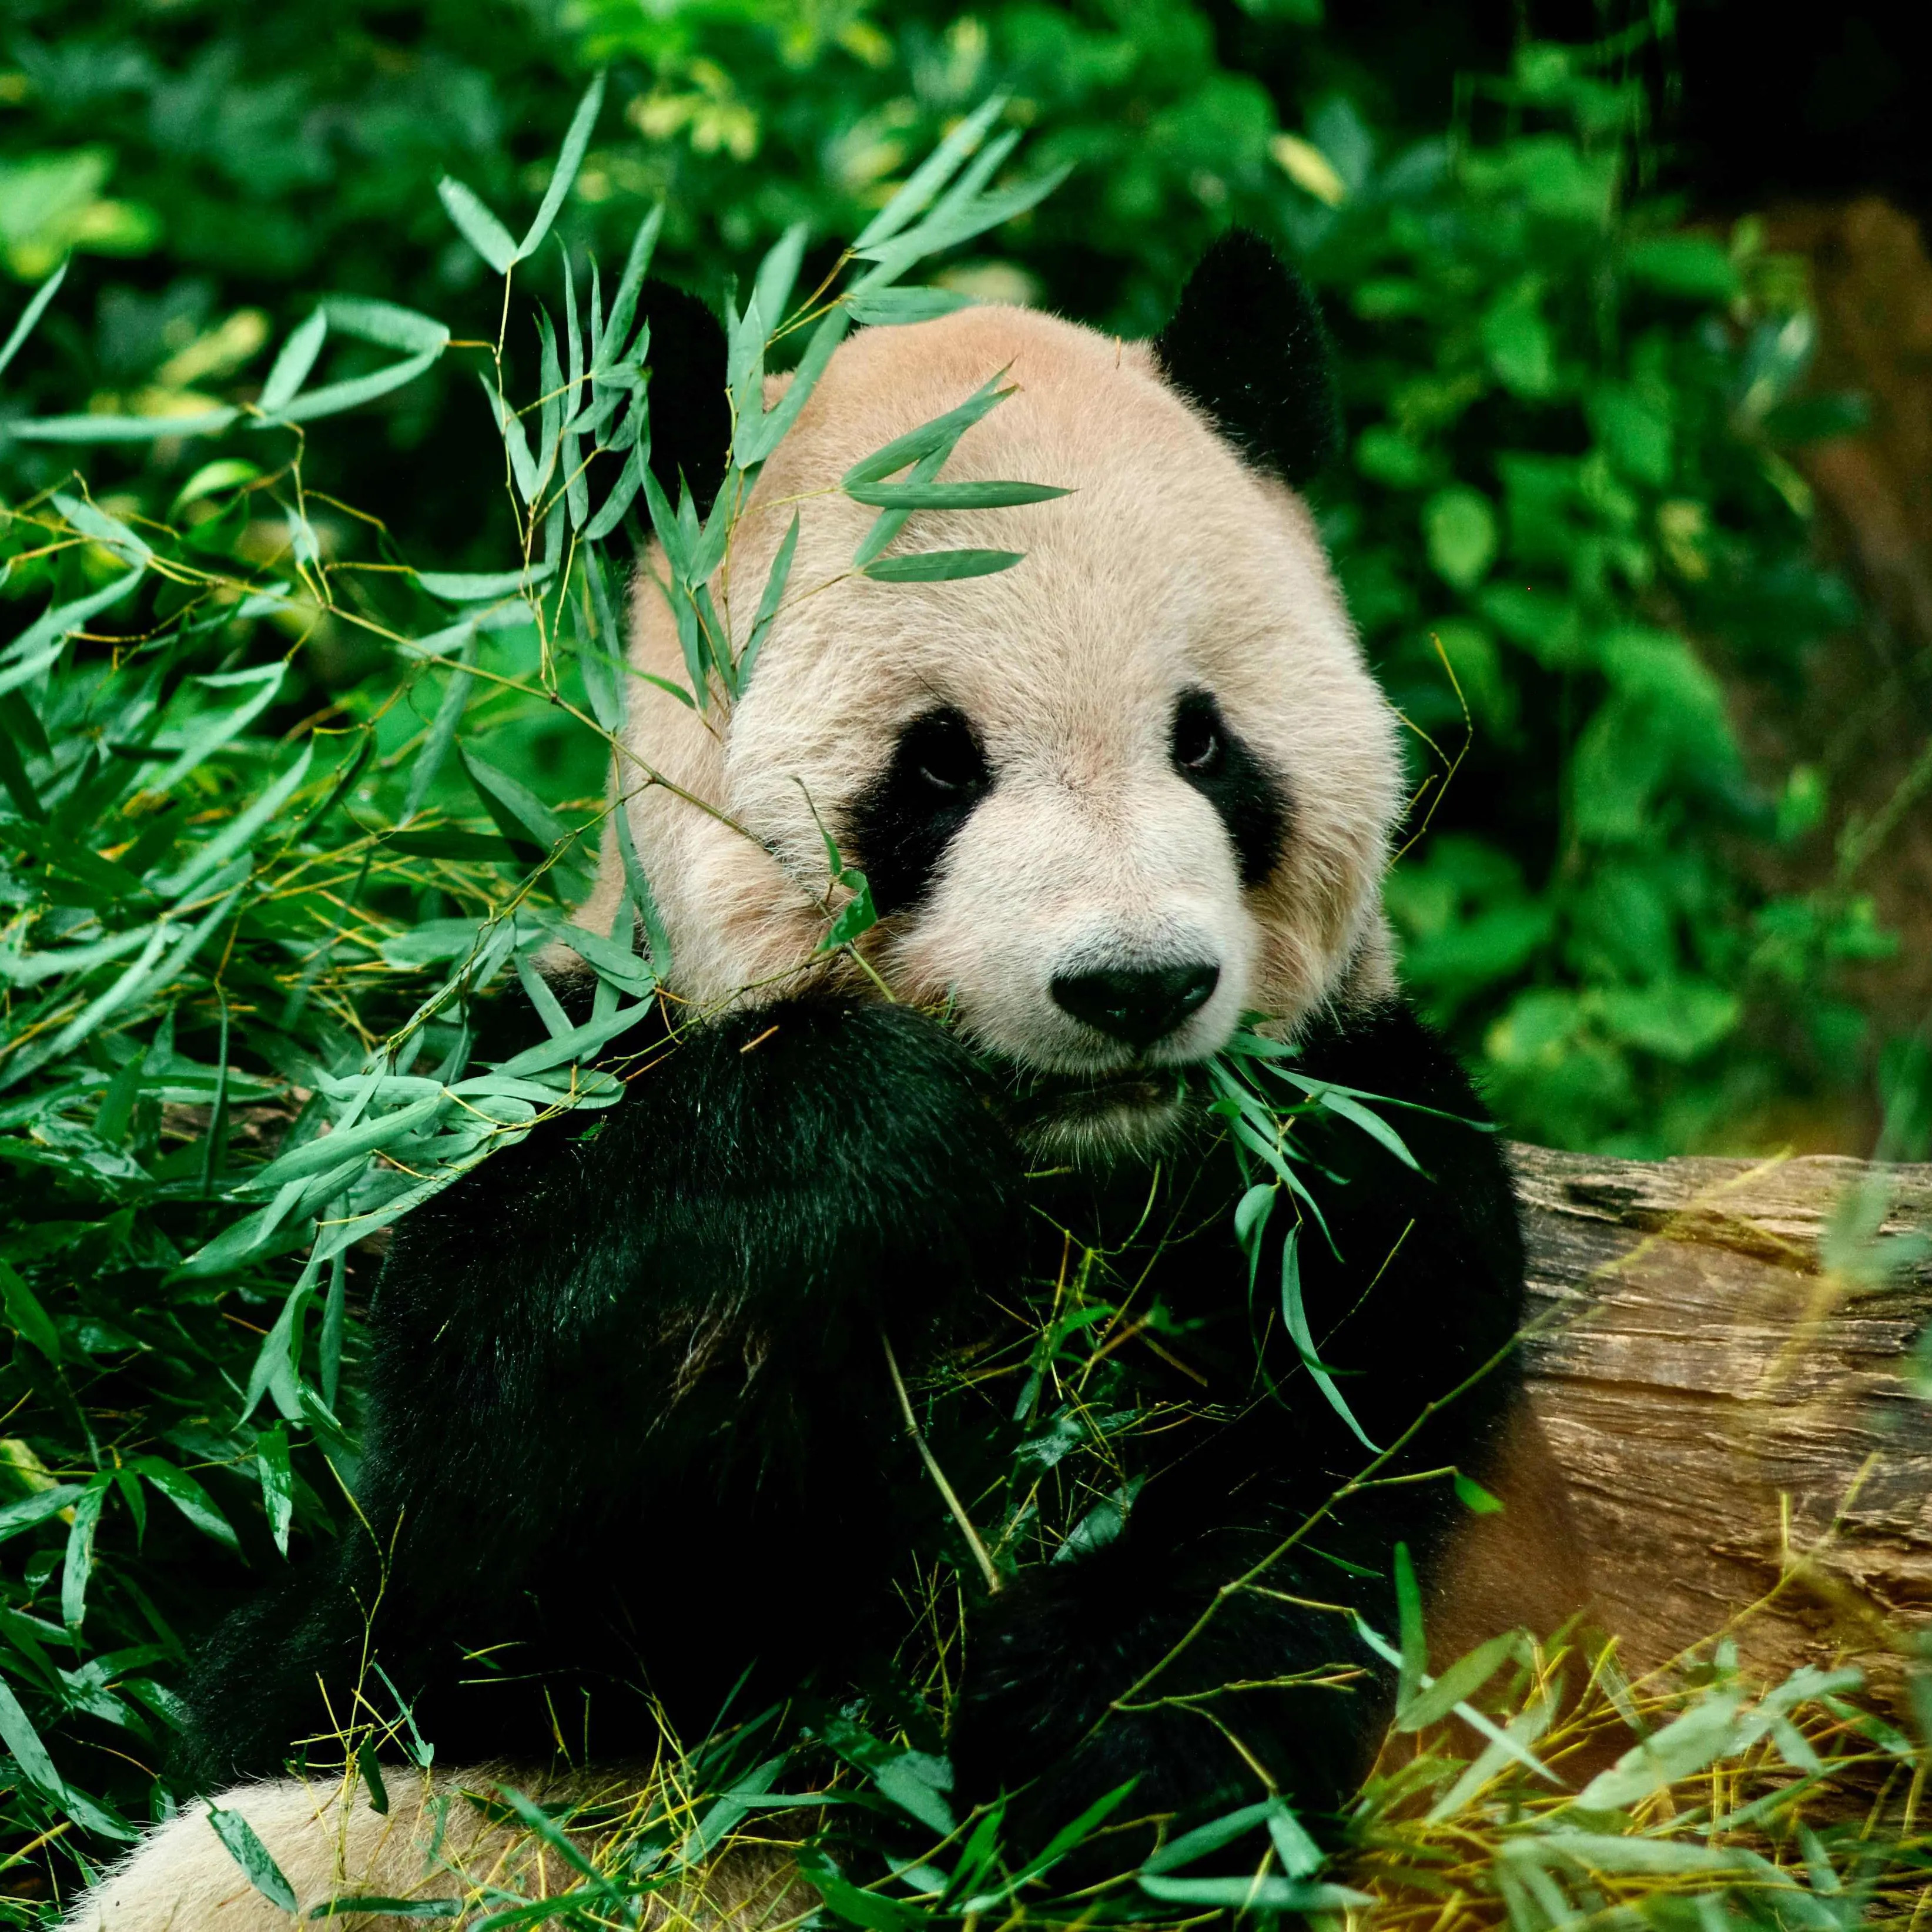Giant panda: (550, 212, 1421, 1145)
